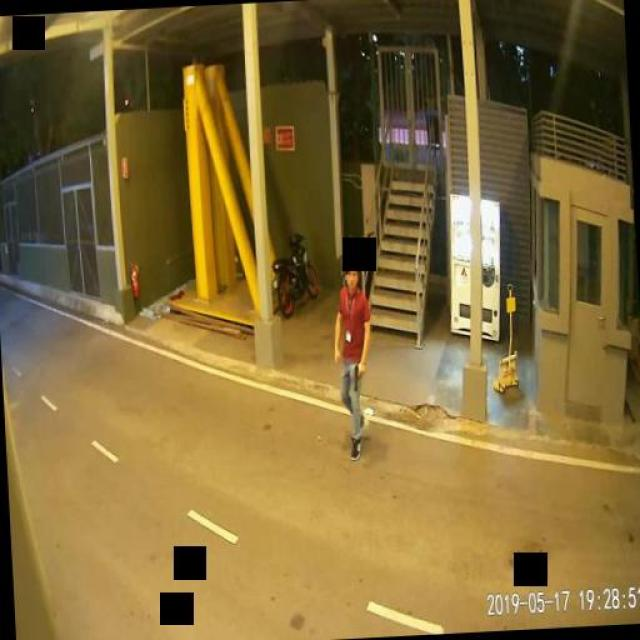gun: (352, 362, 362, 390)
